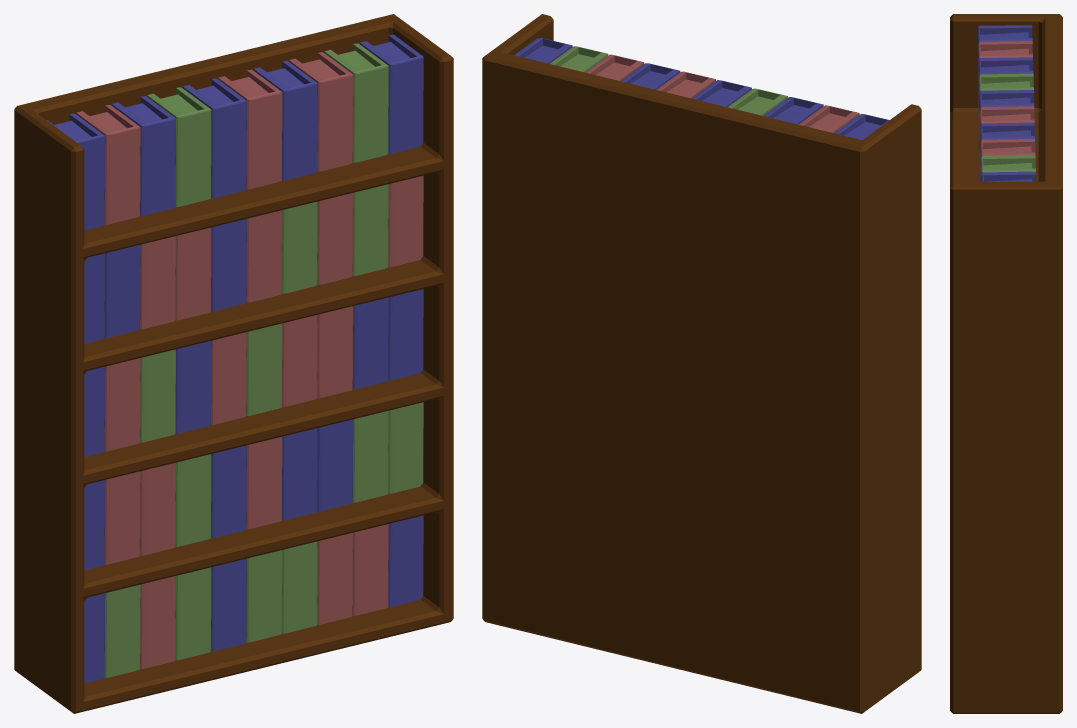
File: Bookcase2.fbx
3 renders of one model, left to right at view 1: azimuth 30°, elevation 25°; view 2: azimuth 150°, elevation 25°; view 3: azimuth 270°, elevation 25°, orthographic. The views are drawn at different scales.
Visible parts, largest first — view 1: Cube.018; view 2: Cube.018; view 3: Cube.018.
Boxes of the visible parts, x1=… form: Cube.018: x1=14, y1=14, x2=453, y2=713; Cube.018: x1=482, y1=14, x2=921, y2=713; Cube.018: x1=950, y1=14, x2=1062, y2=713.
Bounding box in the file's own units: 474 × 671 × 130.
